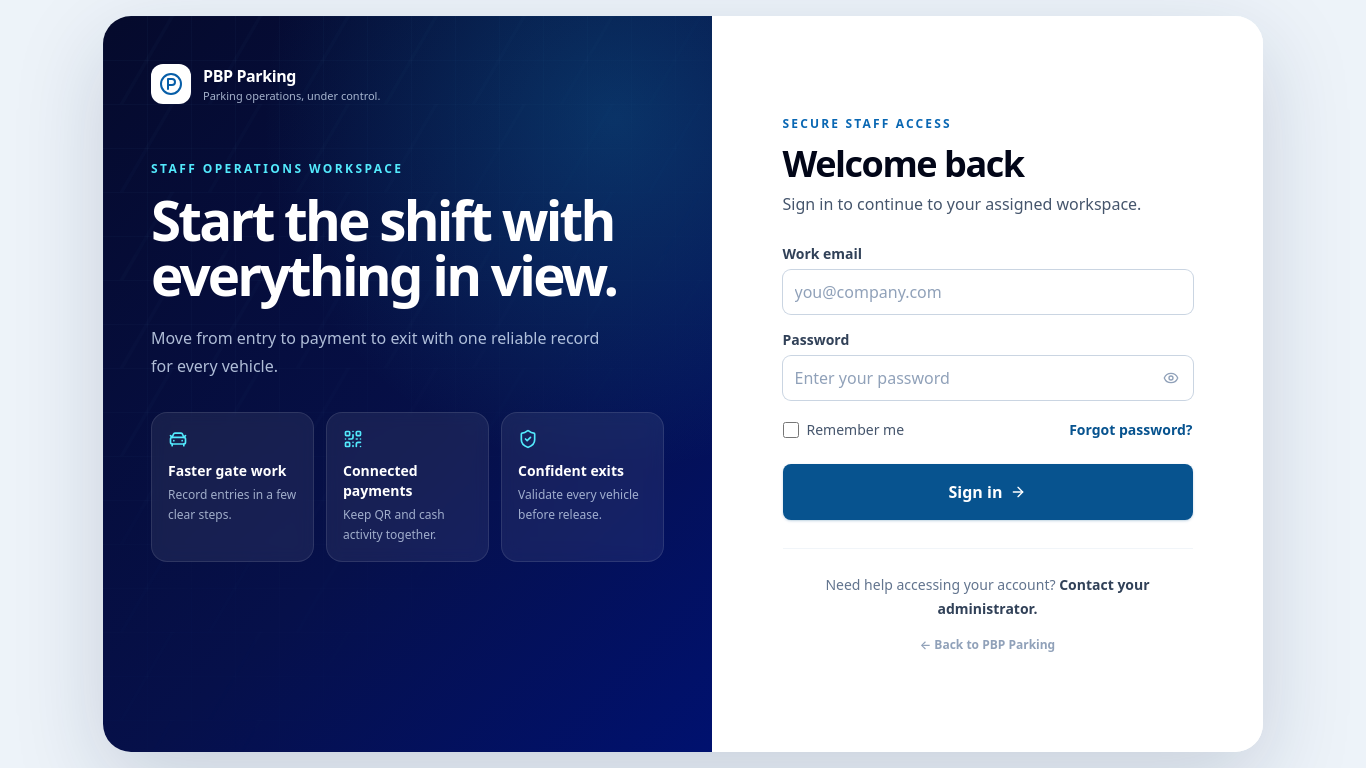
Test: LoginPage › can reveal the password
The width and height of the screenshot is (1366, 768).
Type "secret" into the password field labelled "Password" at (988, 378), box [782,356,1192,400]
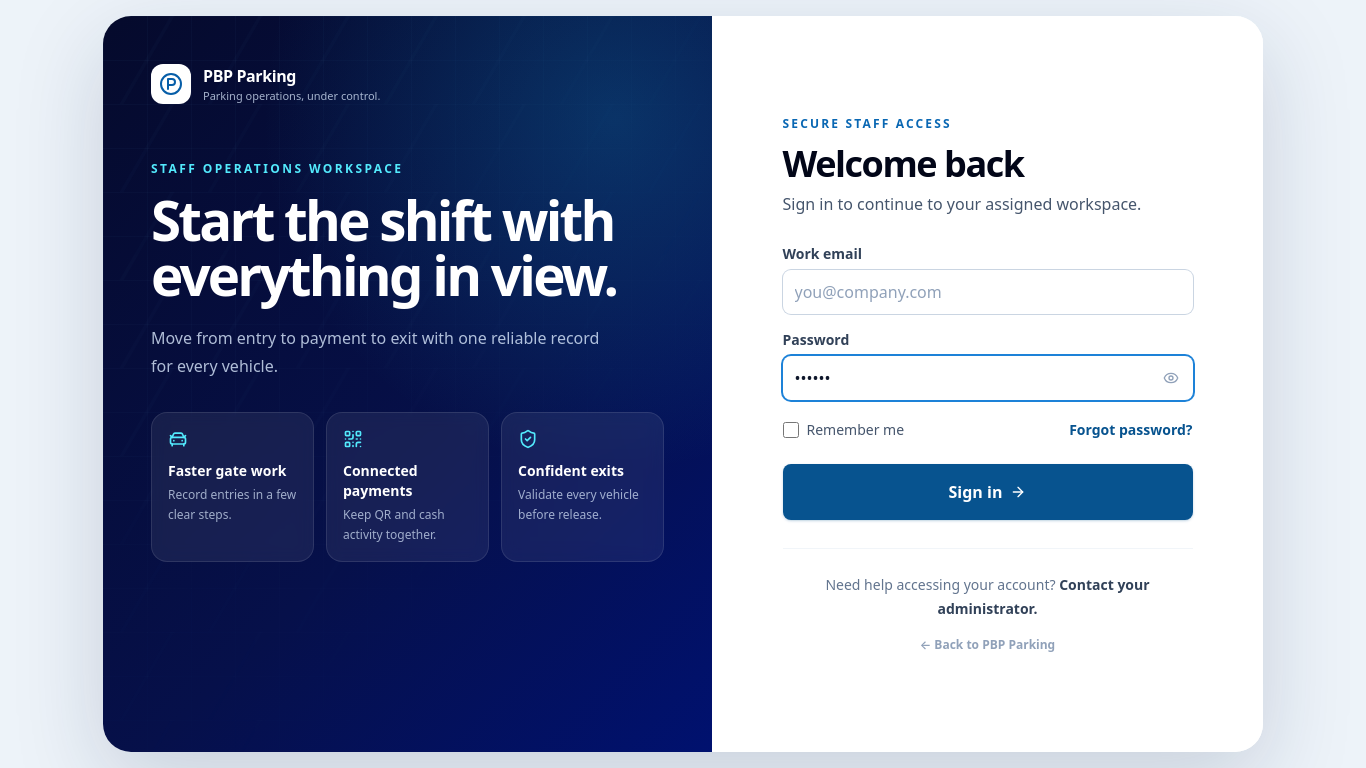
Click the button named "show password" at (1170, 378), box [1148,356,1192,400]
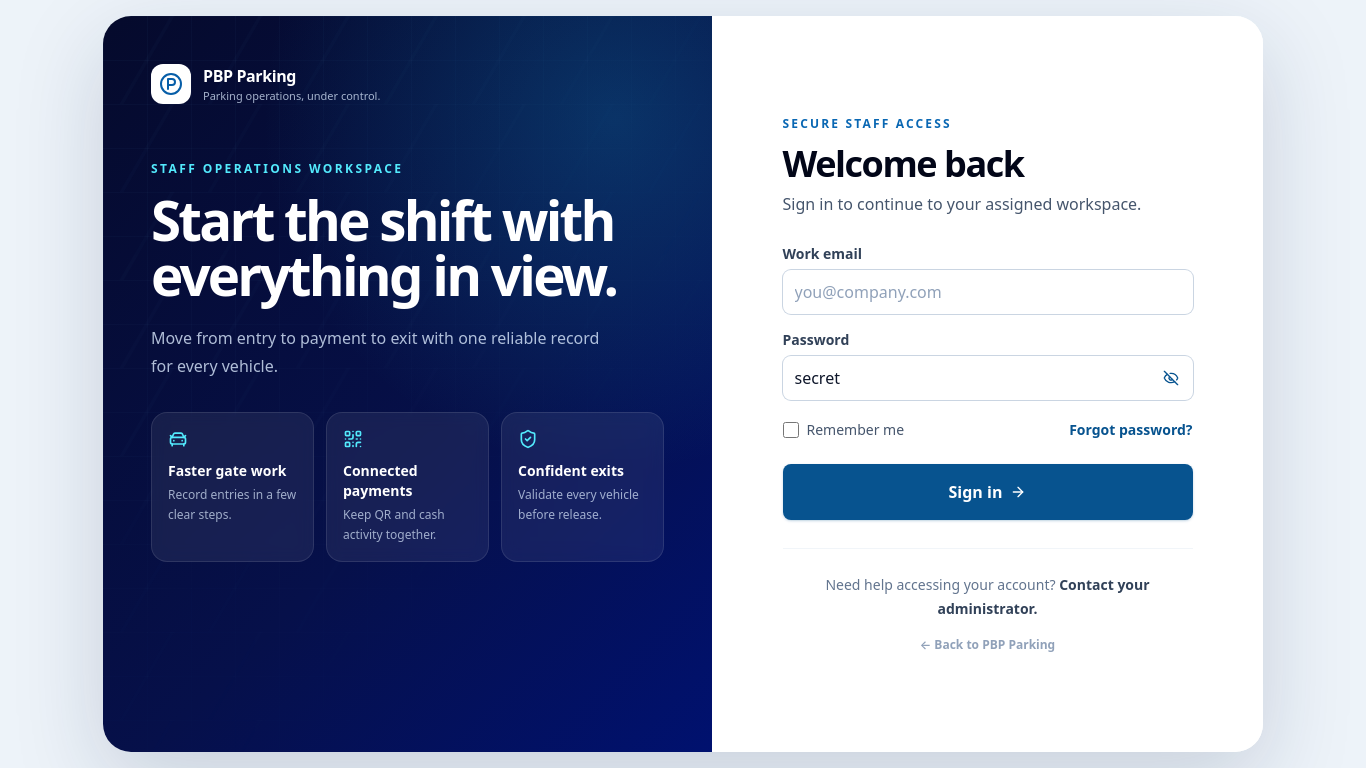
Result: the field labelled "Password" shows its text at [782,356,1192,400]
